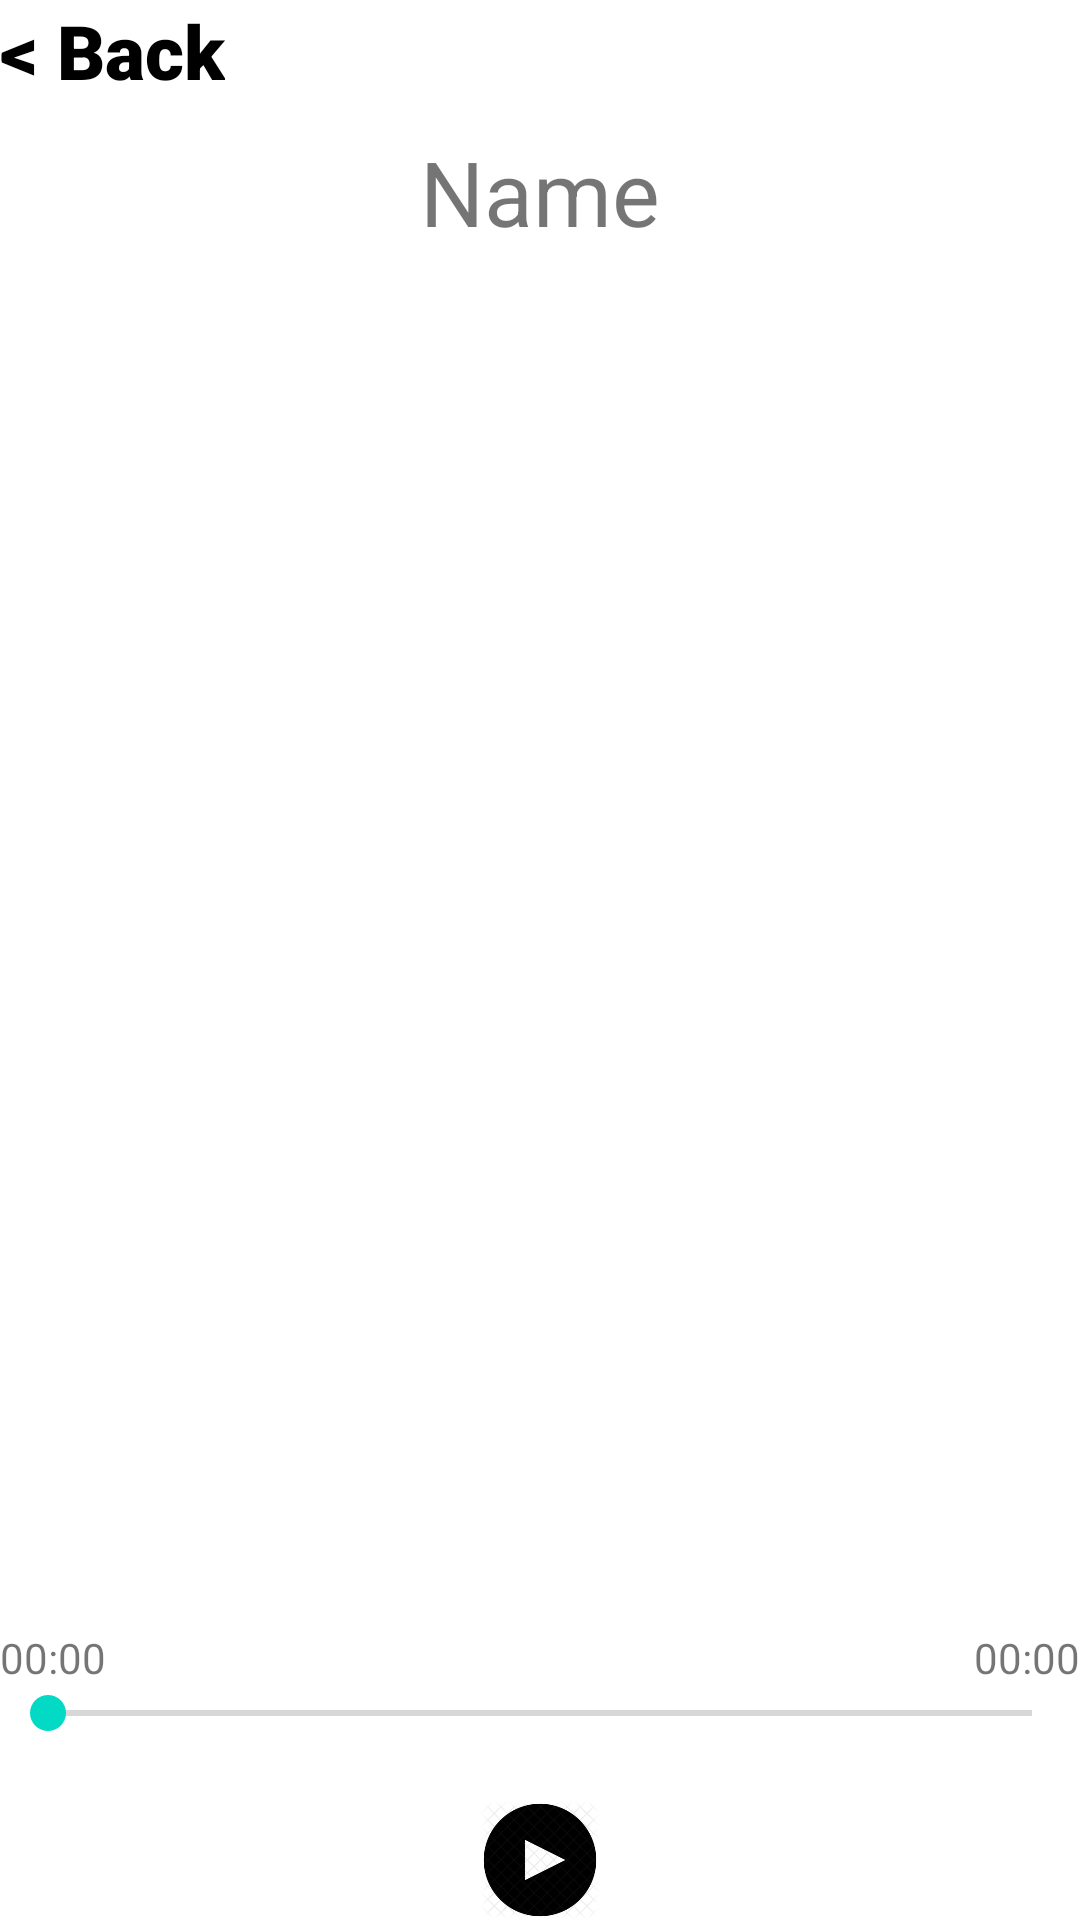

Named icons in this screenshot (1080×1920) and their centers, [x,y]:
play: [540,1860]
